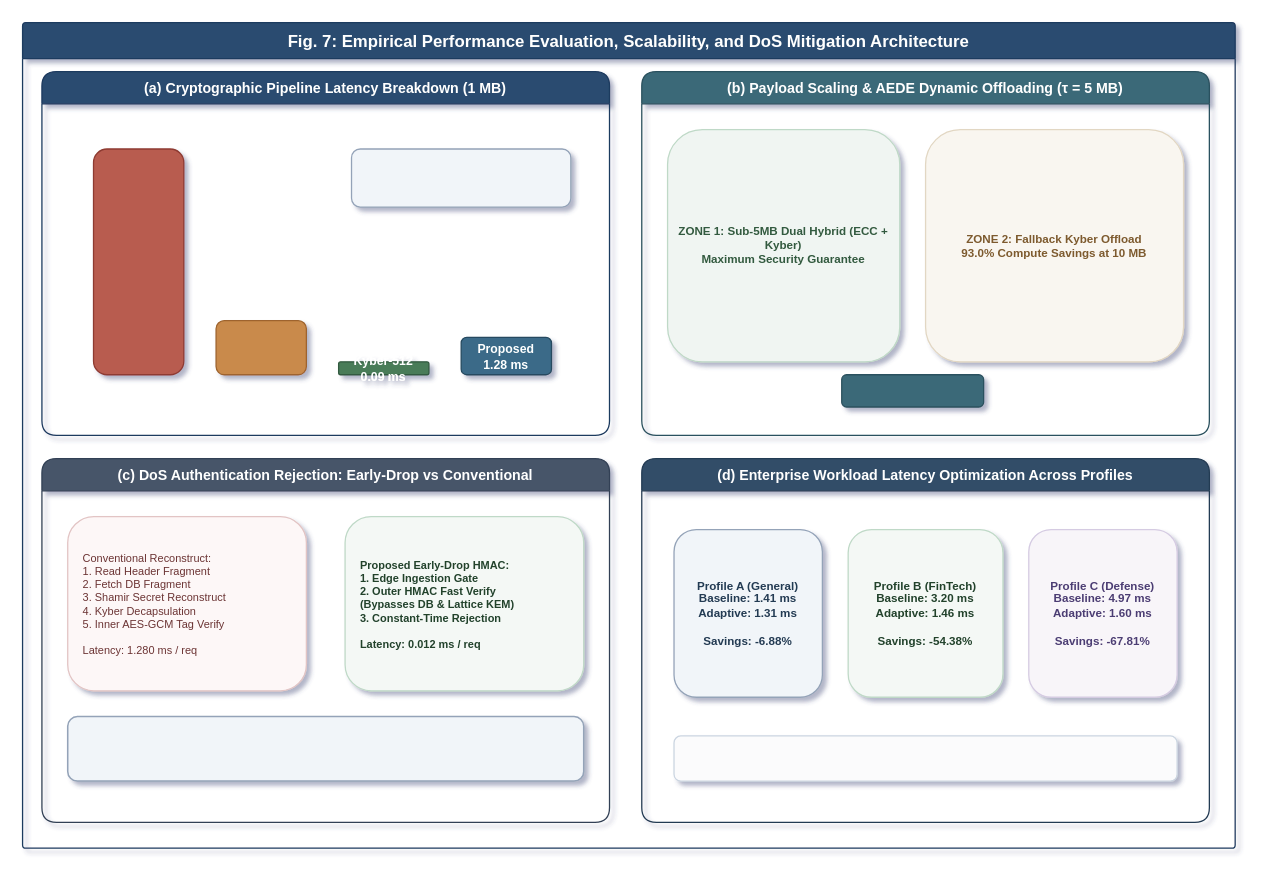
Image size: 1265x878. Some labels were removed from this diagram. Each missing label, with the box of its shape:
6.15x Faster than RSA Dual Classical + Post-Quantum Safety: (350, 148, 571, 207)
ECC-256 1.88 ms: (215, 319, 306, 375)
RSA-3072 7.88 ms: (92, 148, 184, 375)
Threshold τ = 5 MB: (840, 373, 984, 407)
■ Static Baseline (Muted Grey) ■ Proposed Adaptive Hybrid Engine (Calm Accent): (673, 735, 1177, 781)
✓ 106x Threat Rejection Speedup (99.06% CPU Overhead Saved): (66, 715, 584, 781)
